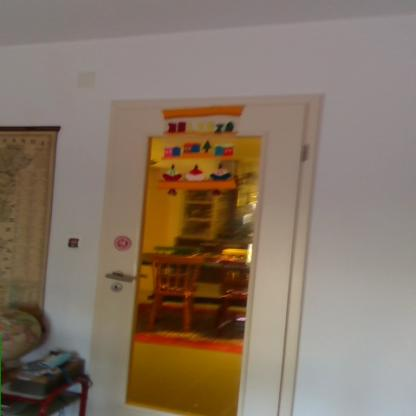closed: (94, 82, 337, 414)
